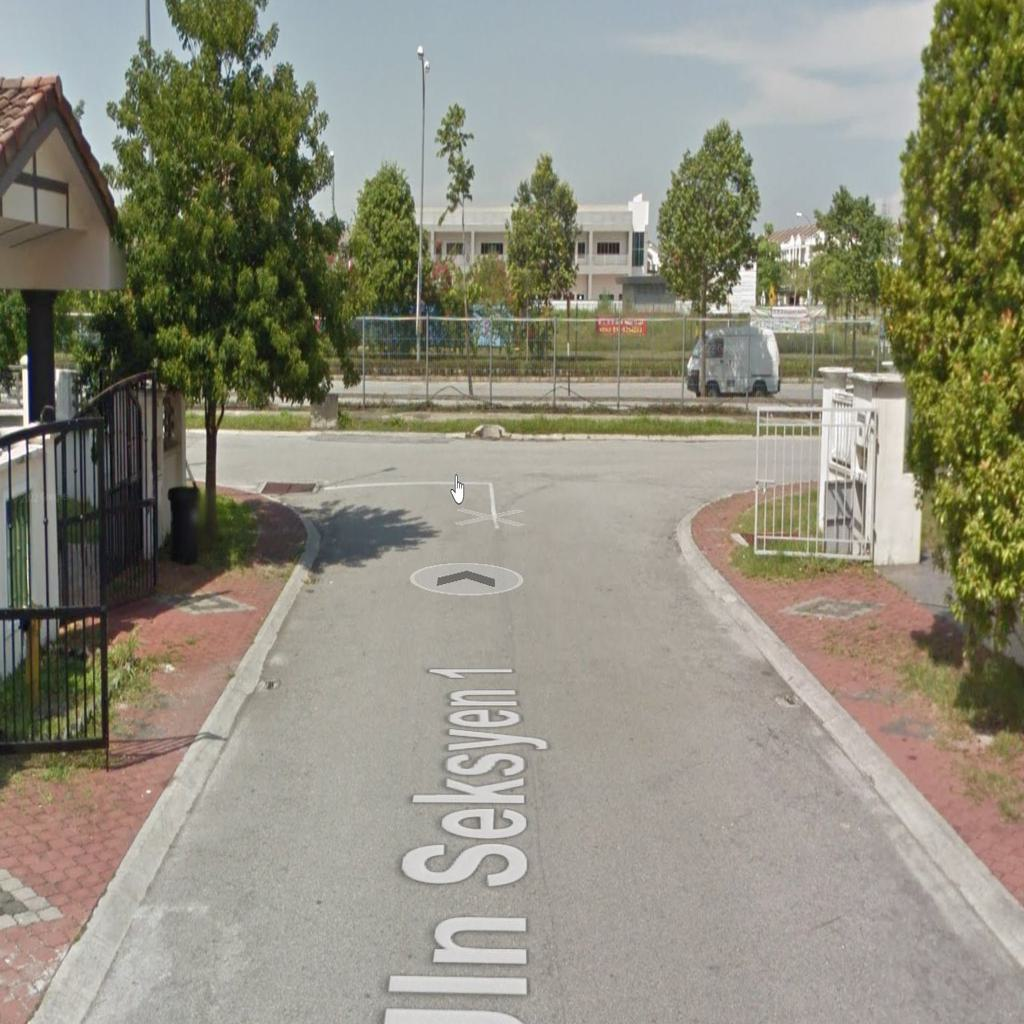Junction: (626, 430, 814, 561), (216, 412, 370, 556)
